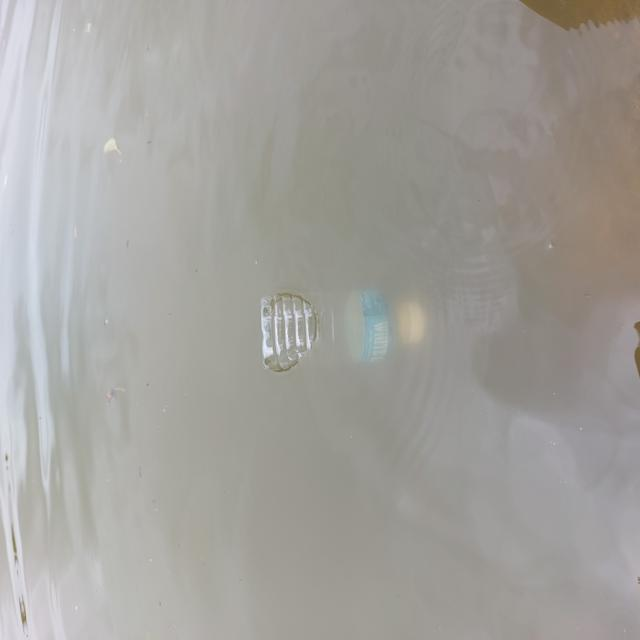waterbottle: (247, 264, 453, 397)
